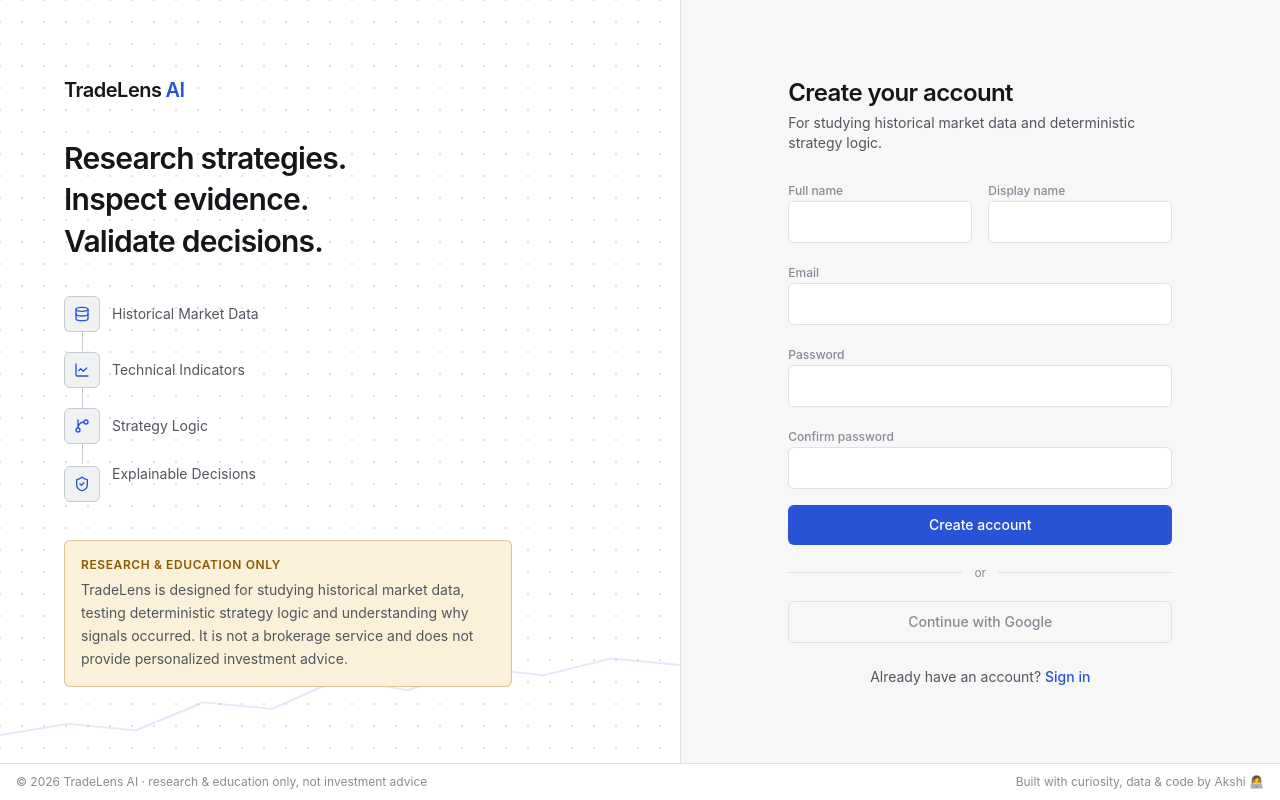
Test: SignupPage › registers with valid input and navigates to Overview
The width and height of the screenshot is (1280, 800).
Expected: the heading "Create your account" is shown, [788,78,1013,106]
In the field labelled "Full name": [880, 222] box [788,200,972,242], type "Akshi Kumar"
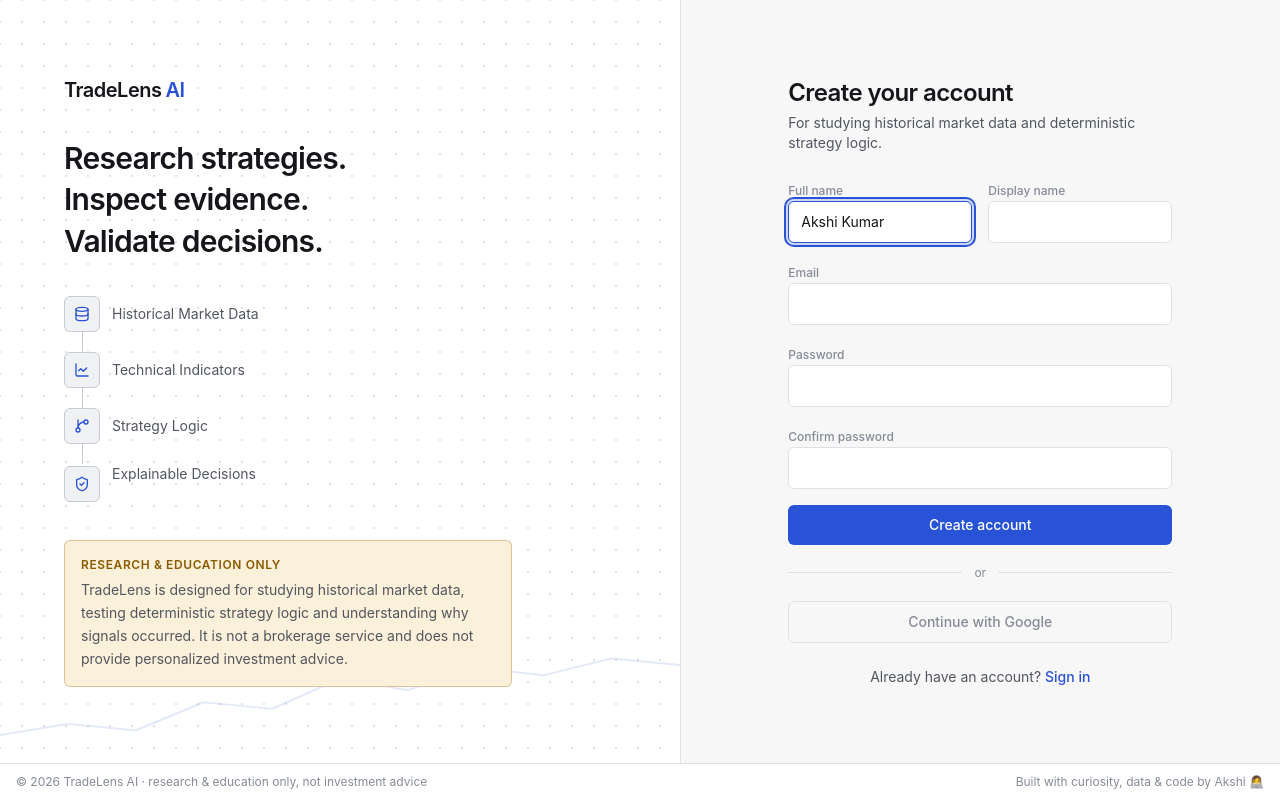
In the field labelled "Display name": [1080, 222] box [988,200,1172,242], type "Akshi"
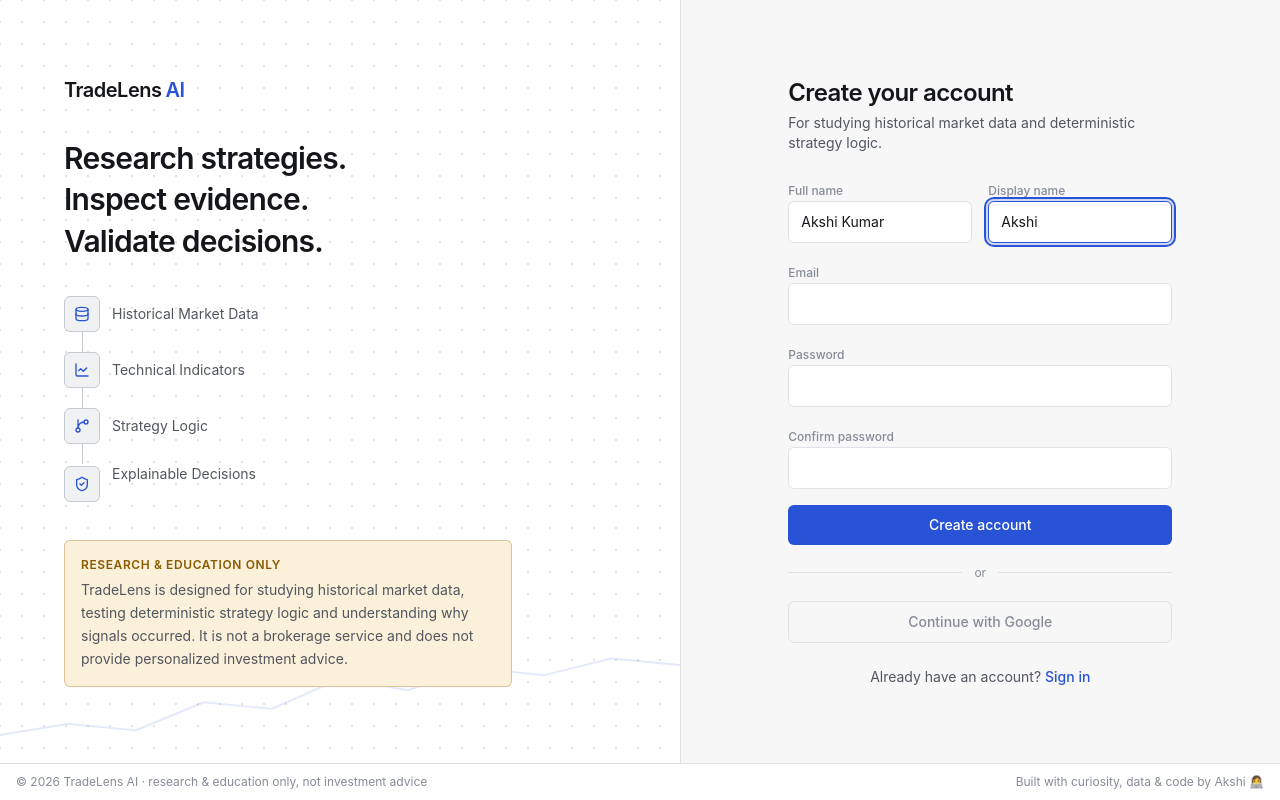
In the field labelled "Email": [980, 304] box [788,282,1172,324], type "akshi@example.com"
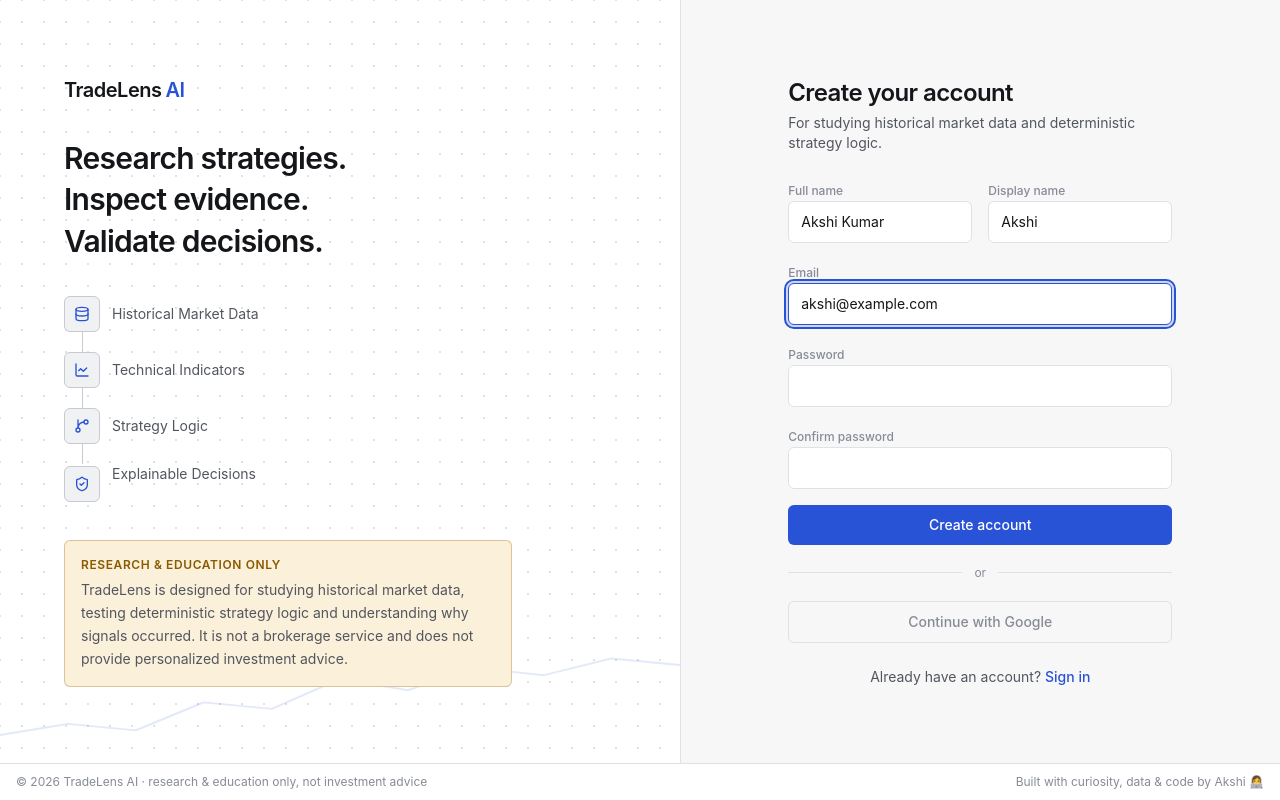
In the password field labelled "Password": [980, 386] box [788,364,1172,406], type "password123"
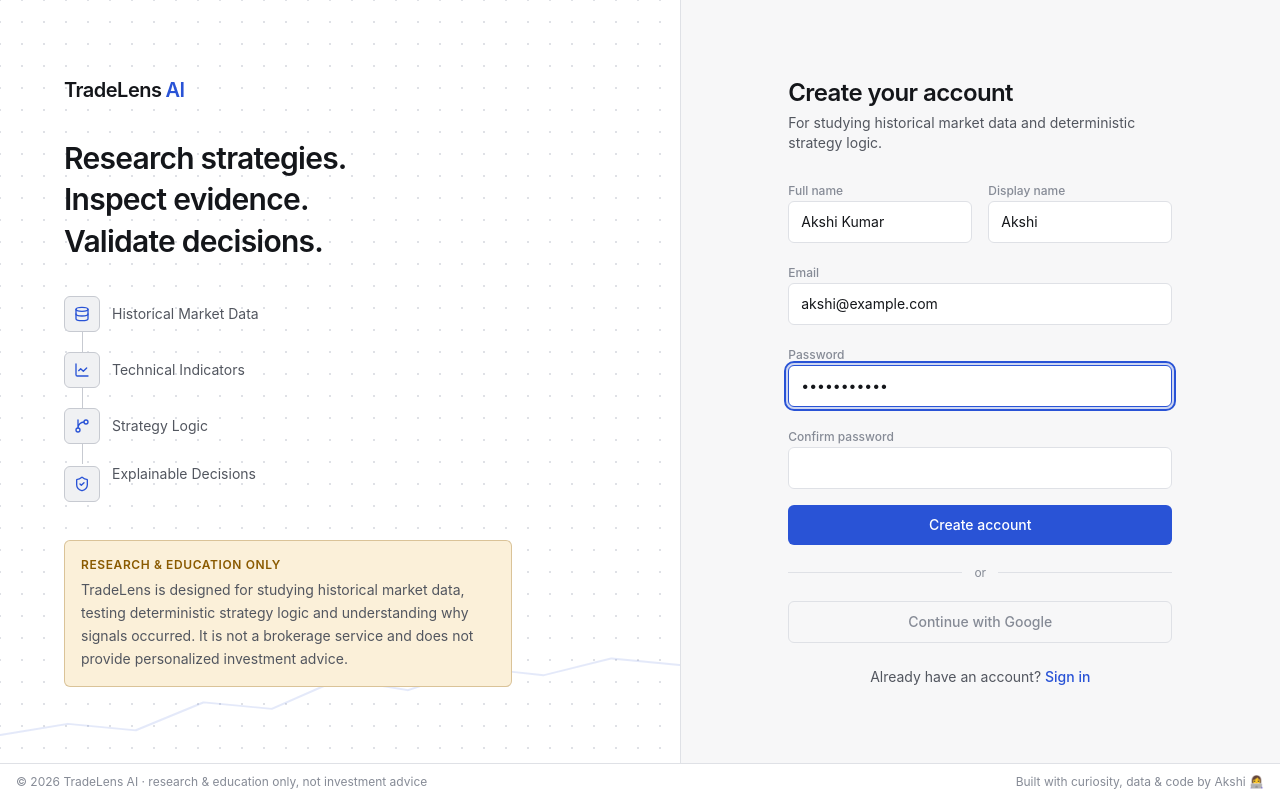
In the password field labelled "Confirm password": [980, 468] box [788,446,1172,488], type "password123"
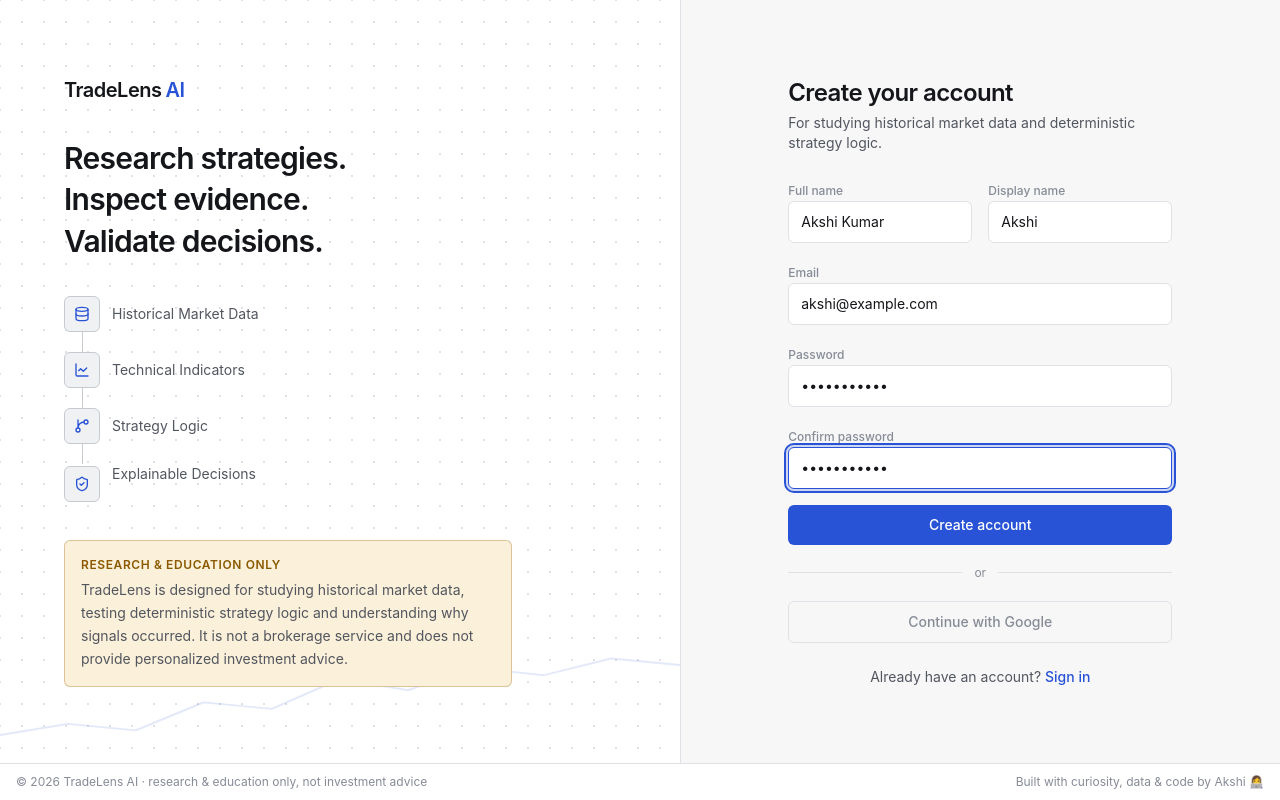
Click the button "Create account": [980, 524] box [788,504,1172,544]
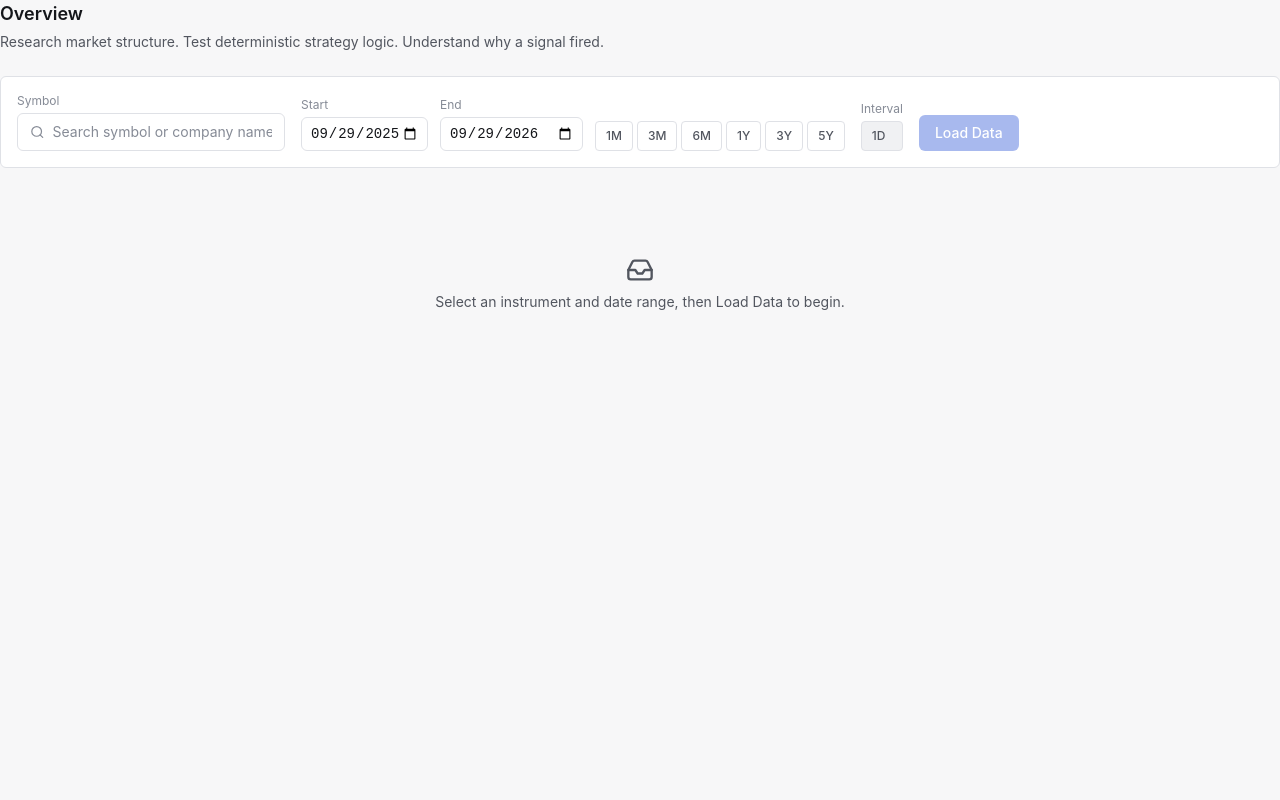
Now the heading "Overview" is shown, box [0,3,83,24]
